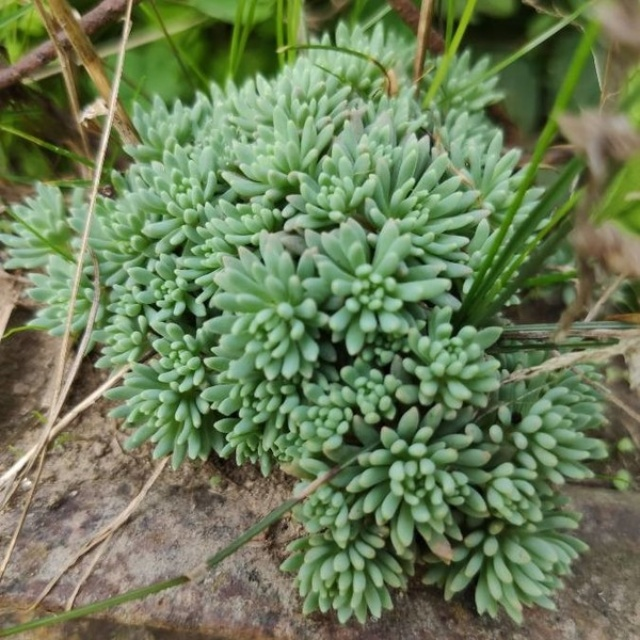obstacle: (34, 60, 606, 625)
